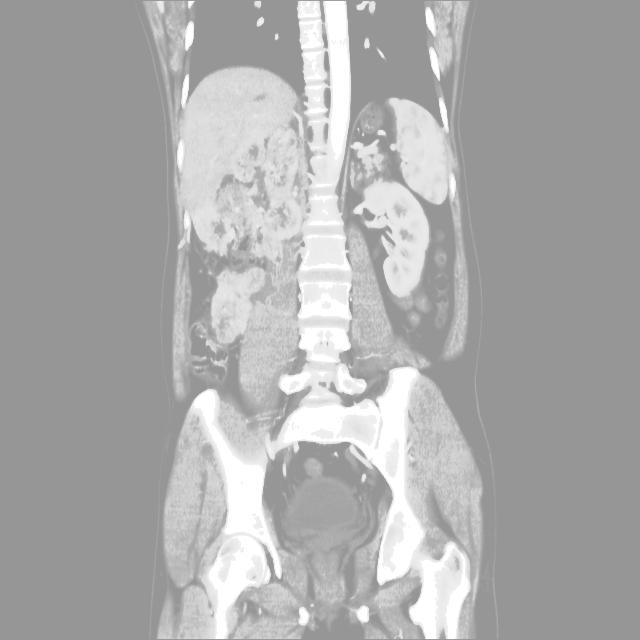TUMOR: (109, 156, 562, 451)
